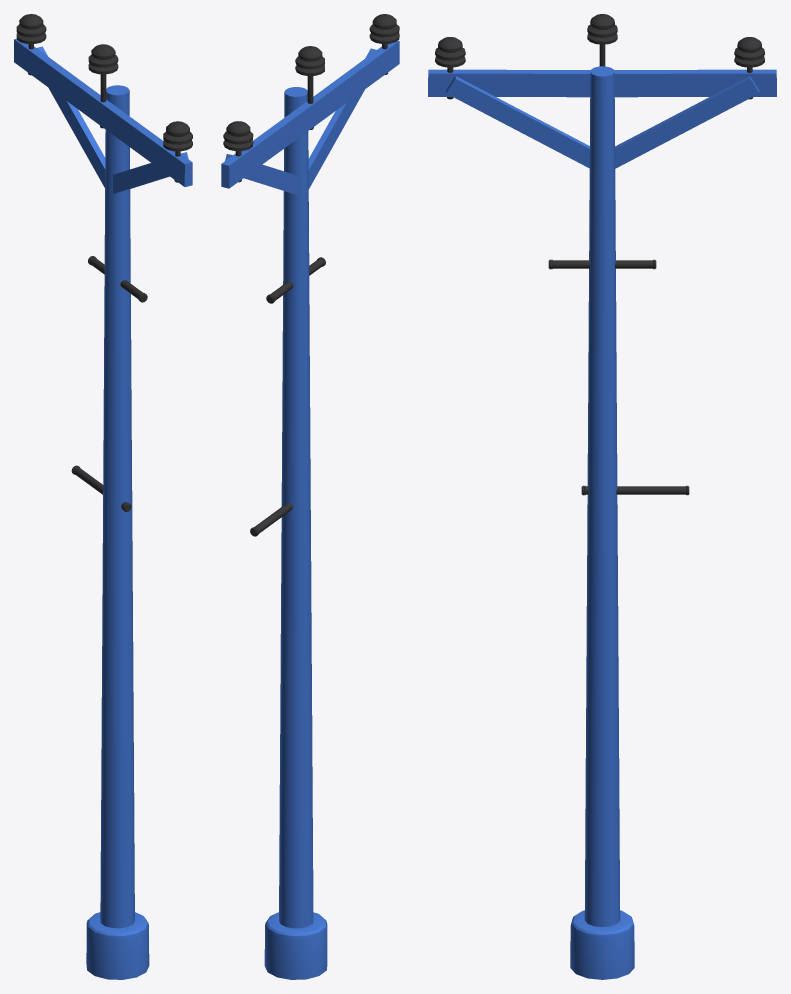
The model's file is TelephonePole.FBX.
3 renders of one model, left to right at view 1: azimuth 30°, elevation 25°; view 2: azimuth 150°, elevation 25°; view 3: azimuth 270°, elevation 25°, orthographic. The views are drawn at different scales.
Visible parts, largest first — view 1: TelephonePole; view 2: TelephonePole; view 3: TelephonePole.
Boxes of the visible parts, box(x1,y1,x2,y2) form: TelephonePole: box(14, 14, 192, 979); TelephonePole: box(221, 14, 399, 979); TelephonePole: box(428, 14, 776, 979).
Bounding box in the file's own units: 28.22 × 459 × 154.
